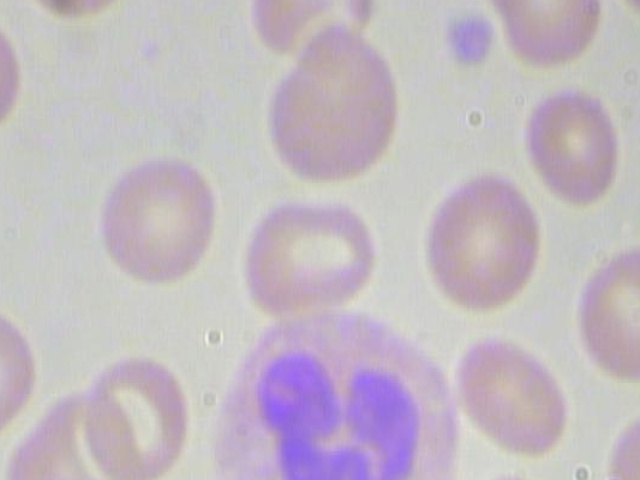Platelets: (430, 0, 502, 80)
RBC: (255, 23, 408, 189), (404, 169, 547, 315), (235, 175, 378, 321), (78, 139, 220, 285), (78, 343, 202, 480), (451, 331, 571, 471), (521, 80, 622, 204), (574, 229, 640, 386), (473, 0, 608, 74), (0, 297, 45, 444), (586, 391, 640, 480), (1, 0, 143, 28), (595, 0, 640, 35)
WBC: (192, 302, 464, 480)
